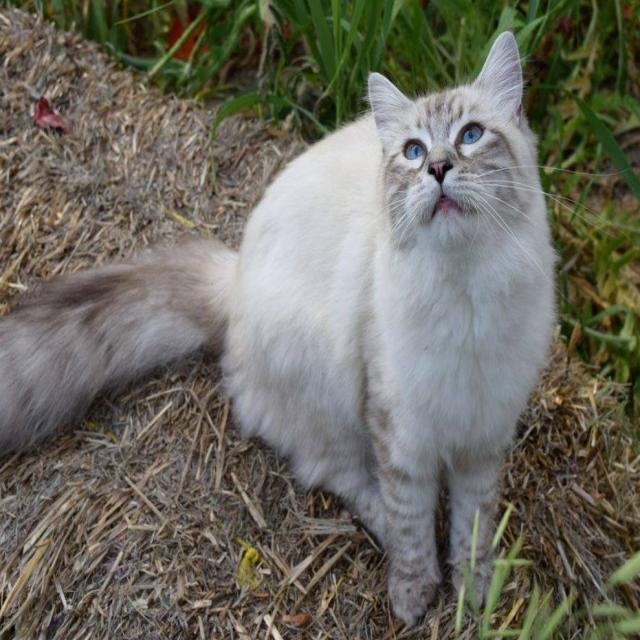Neva Masquerade: (0, 23, 563, 629)
